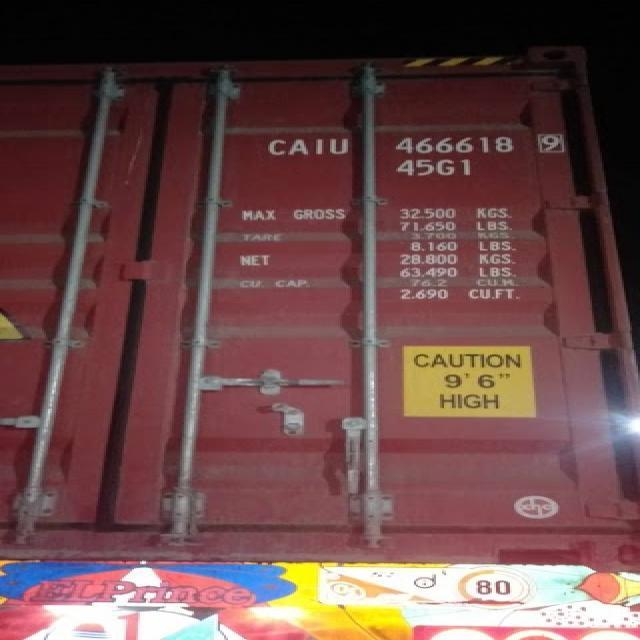ISO: (392, 159, 474, 177)
container_number: (270, 128, 568, 156)
